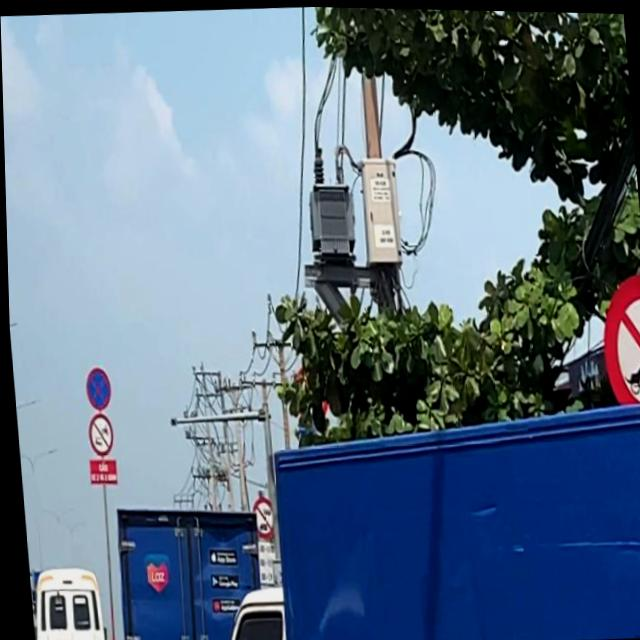Cam dung xe va do xe: (82, 366, 111, 411)
